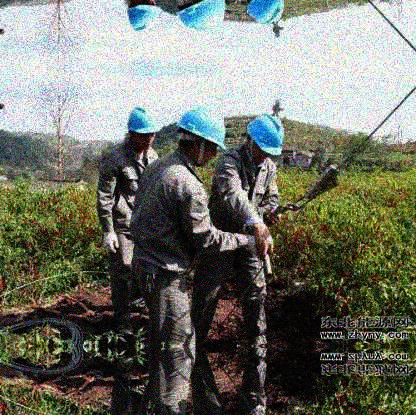helmet: (177, 106, 226, 169), (240, 115, 286, 167), (128, 106, 163, 153)
